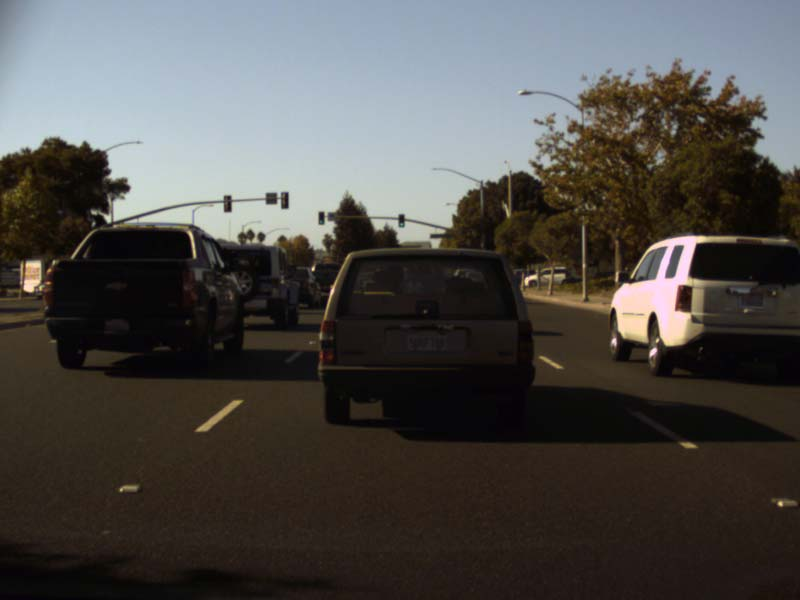Green: (317, 211, 324, 224), (398, 214, 404, 226)
